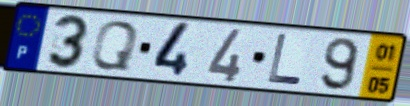3: (46, 12, 90, 70)
4: (151, 20, 195, 82), (204, 26, 243, 84)
9: (319, 36, 361, 93)
L: (266, 32, 305, 88)
Q: (88, 19, 142, 73)
